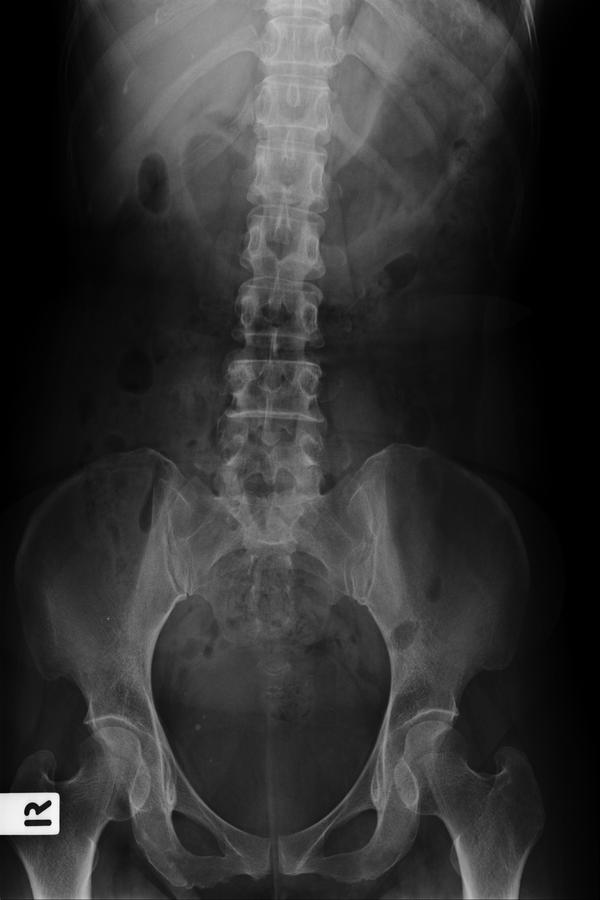lumbar scoliosis: (214, 4, 332, 546)
